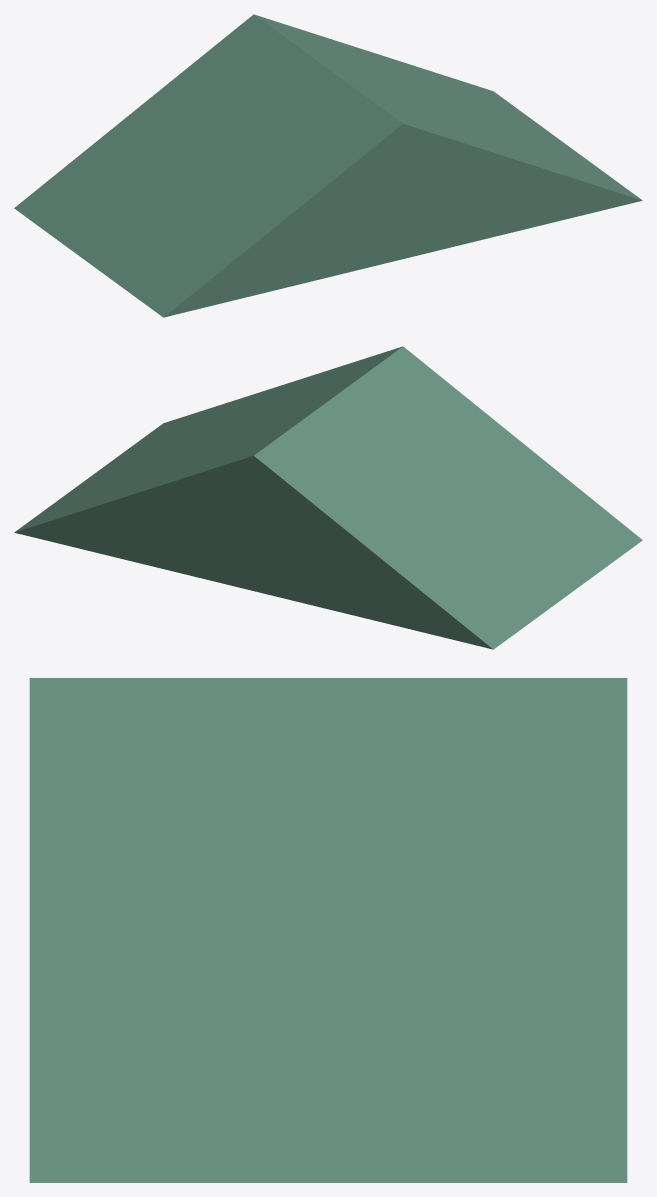
The model's file is roof1.fbx.
3 renders of one model, top to bottom at view 1: azimuth 30°, elevation 25°; view 2: azimuth 150°, elevation 25°; view 3: azimuth 270°, elevation 25°, orthographic. The views are drawn at different scales.
Visible parts, largest first — view 1: roof2; view 2: roof2; view 3: roof2.
Part boxes in pixels (<box>): roof2: <box>14,14,642,317</box>; roof2: <box>14,346,642,649</box>; roof2: <box>29,678,627,1182</box>.
Bounding box in the file's own units: 185 × 50 × 100.
